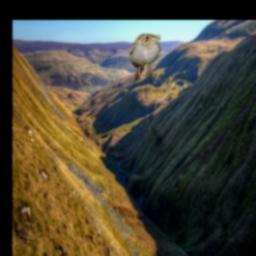Sparrow: (130, 34, 162, 82)
